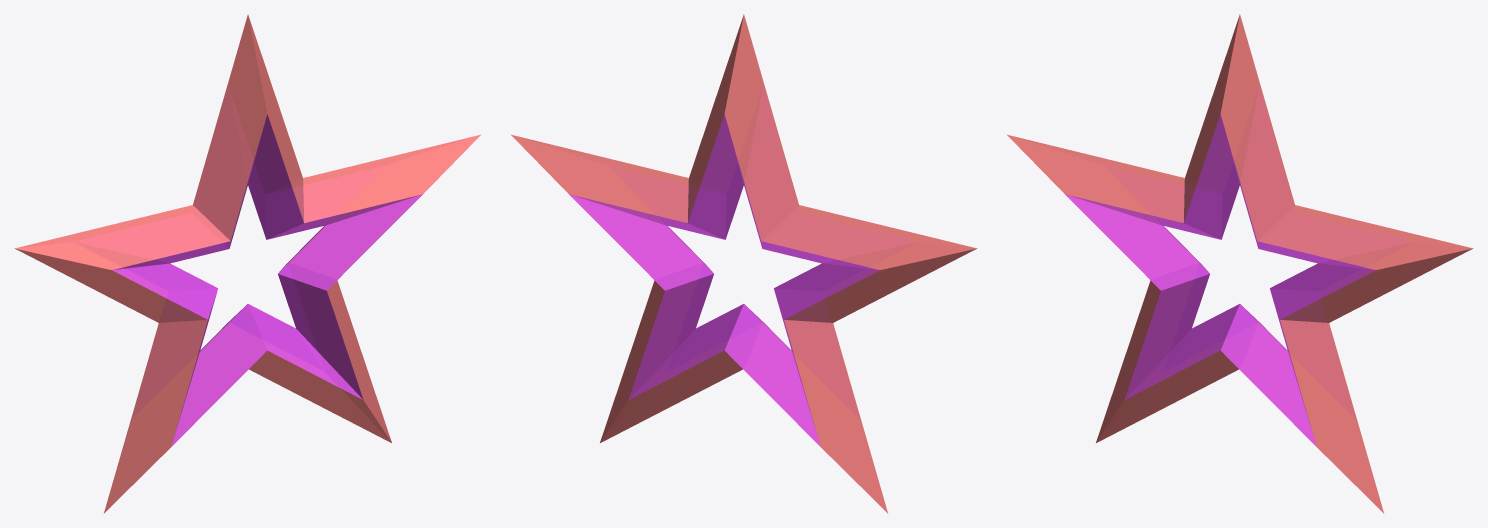
Rendered from Regular5TetragonalStarToroid.obj.
3 renders of one model, left to right at view 1: azimuth 30°, elevation 25°; view 2: azimuth 150°, elevation 25°; view 3: azimuth 330°, elevation 25°, orthographic.
Size of the model in its own units: 4.85 by 4.62 by 0.7.
